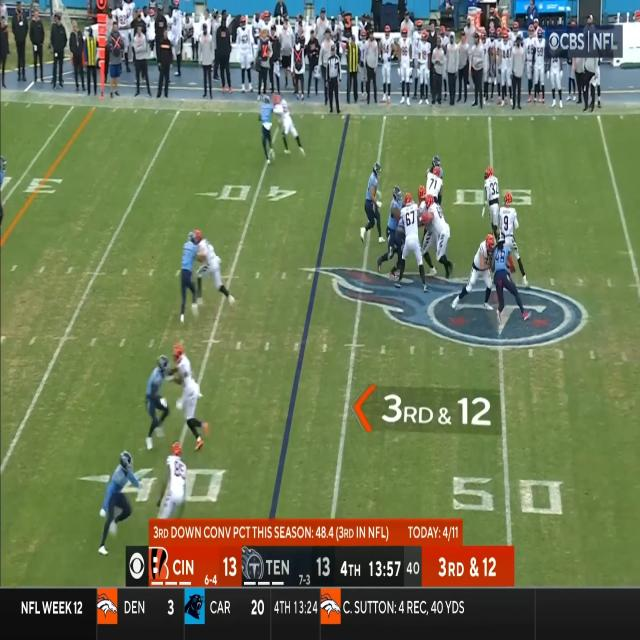players: (95, 452, 143, 558), (171, 344, 209, 455), (195, 231, 239, 311), (391, 198, 426, 290), (460, 229, 498, 312), (492, 249, 528, 334), (144, 356, 175, 454), (381, 190, 413, 281), (423, 197, 456, 284), (177, 230, 201, 326), (158, 446, 188, 520), (362, 163, 387, 248), (278, 96, 310, 162), (497, 225, 530, 286), (254, 94, 278, 168), (386, 183, 410, 254), (482, 166, 506, 236), (492, 196, 522, 250), (425, 158, 448, 218)
